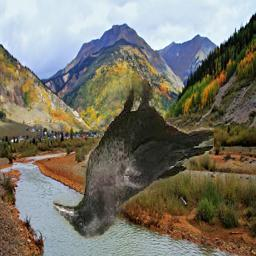Crow: (54, 45, 215, 239)
